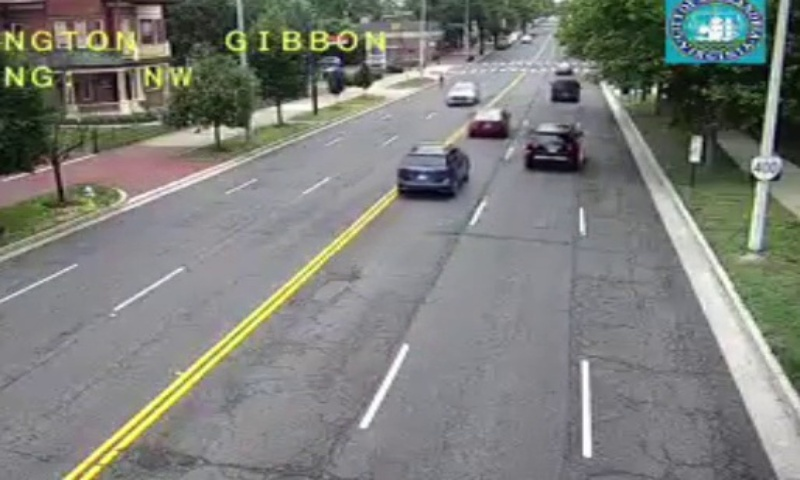car: (396, 145, 468, 193), (524, 123, 578, 167), (466, 108, 505, 138), (549, 80, 580, 102)
